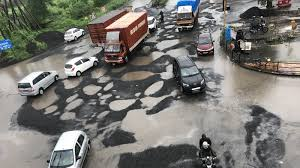potholes: (70, 79, 126, 116)
